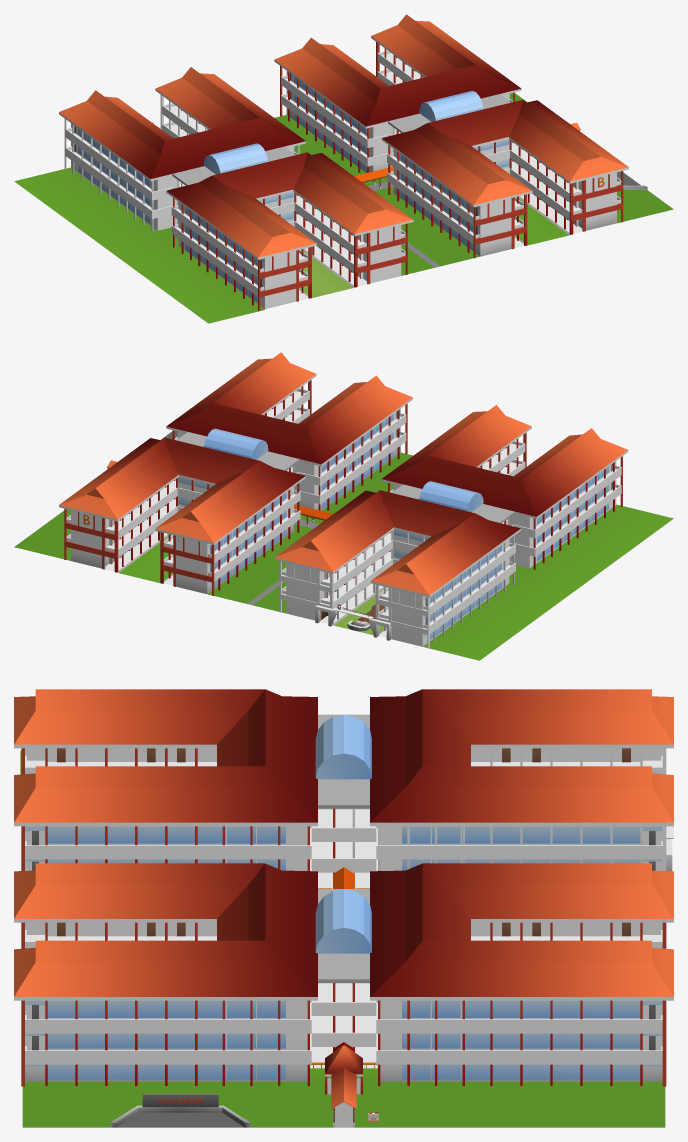
File: Gedung Cacuk 1.fbx
3 renders of one model, top to bottom at view 1: azimuth 30°, elevation 25°; view 2: azimuth 150°, elevation 25°; view 3: azimuth 270°, elevation 25°, orthographic. The views are drawn at different scales.
Parts seen in each view (by area): view 1: Gedung Cacuk; view 2: Gedung Cacuk; view 3: Gedung Cacuk.
Part boxes in pixels (x1,y1,x2,y2): Gedung Cacuk: [14, 14, 673, 323]; Gedung Cacuk: [14, 352, 673, 660]; Gedung Cacuk: [14, 689, 673, 1127].
Bounding box in the file's own units: 11316 × 1750 × 8362.
Materials: 3 (3 with a texture image).
